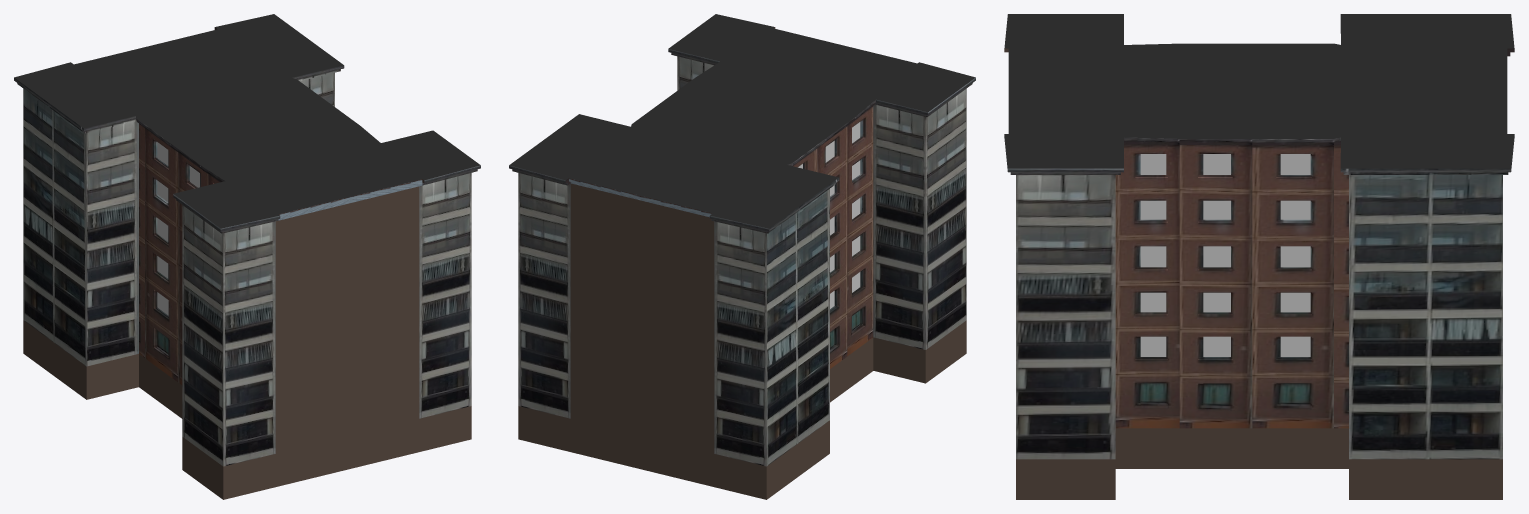
File: yk_treatlot_socooltretalo1.fbx
The picture shows the model from 3 angles, left to right: view 1: azimuth 30°, elevation 25°; view 2: azimuth 150°, elevation 25°; view 3: azimuth 270°, elevation 25°; orthographic projection. The views are drawn at different scales.
Visible parts, largest first — view 1: tretalo1; view 2: tretalo1; view 3: tretalo1.
Boxes of the visible parts, bbox=[...] form: tretalo1: bbox=[14, 14, 480, 499]; tretalo1: bbox=[509, 14, 975, 499]; tretalo1: bbox=[1004, 14, 1514, 499].
Bounding box in the file's own units: 1292 × 1306 × 1802.
